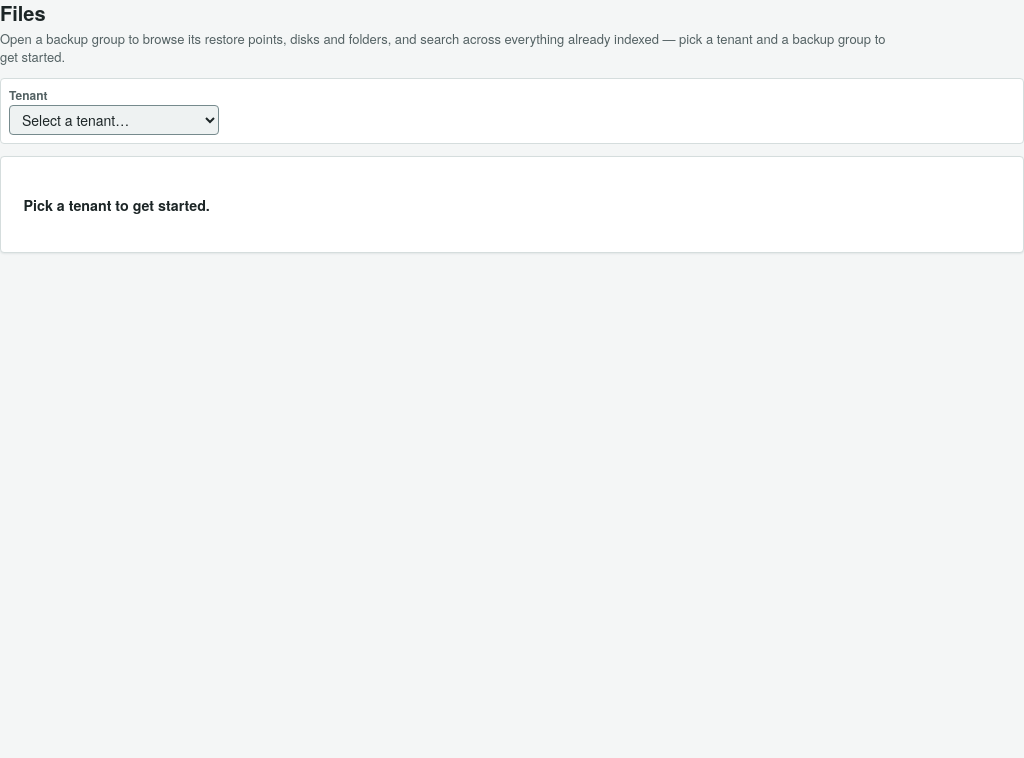
Scenario: FileWorkspacePage › opens the File Browser window and browses a green (indexed) snapshot via the index panel
Select "Acme AG" in the dropdown labelled "Tenant" at [114, 120], box [9,105,219,135]
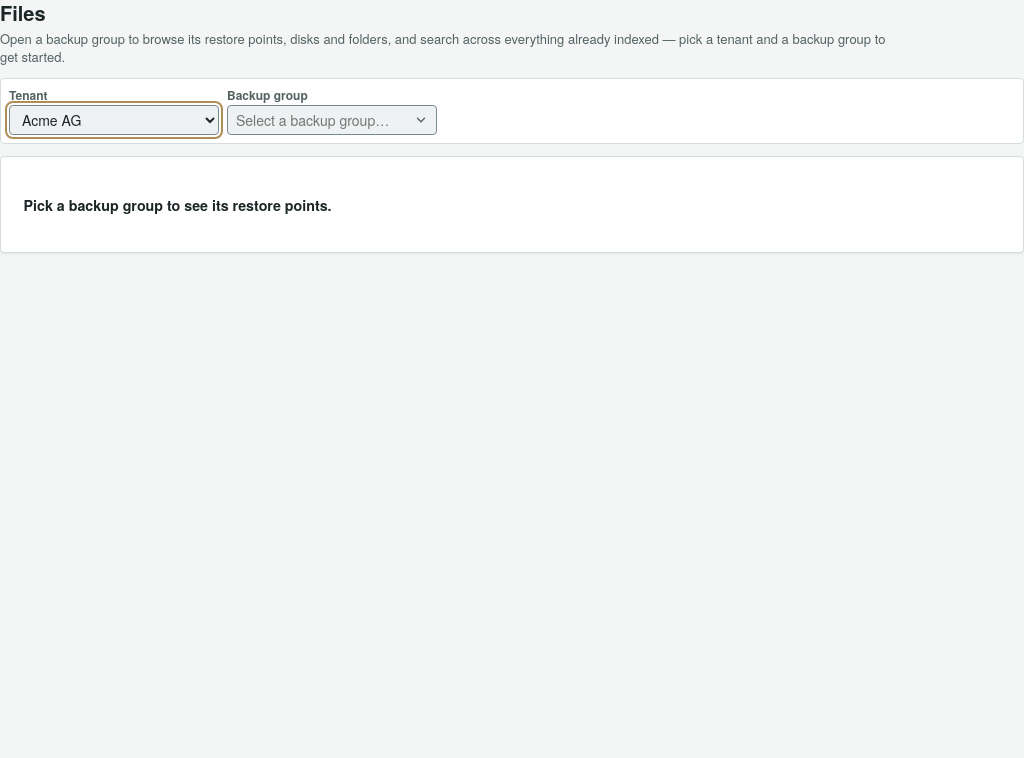
Now the dropdown labelled "Backup group" is shown
Click the dropdown labelled "Backup group" at [332, 120], box [227,105,437,135]
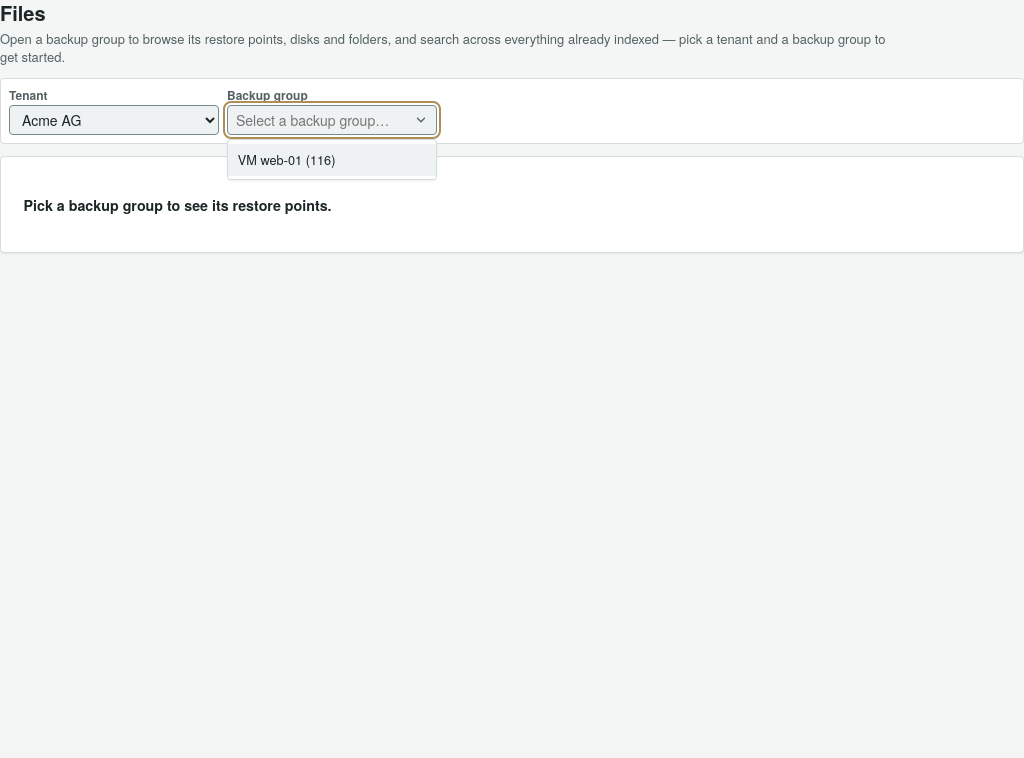
Now the option "VM web-01 (116)" is shown
Click the option "VM web-01 (116)" at [332, 160], box [228,144,436,176]
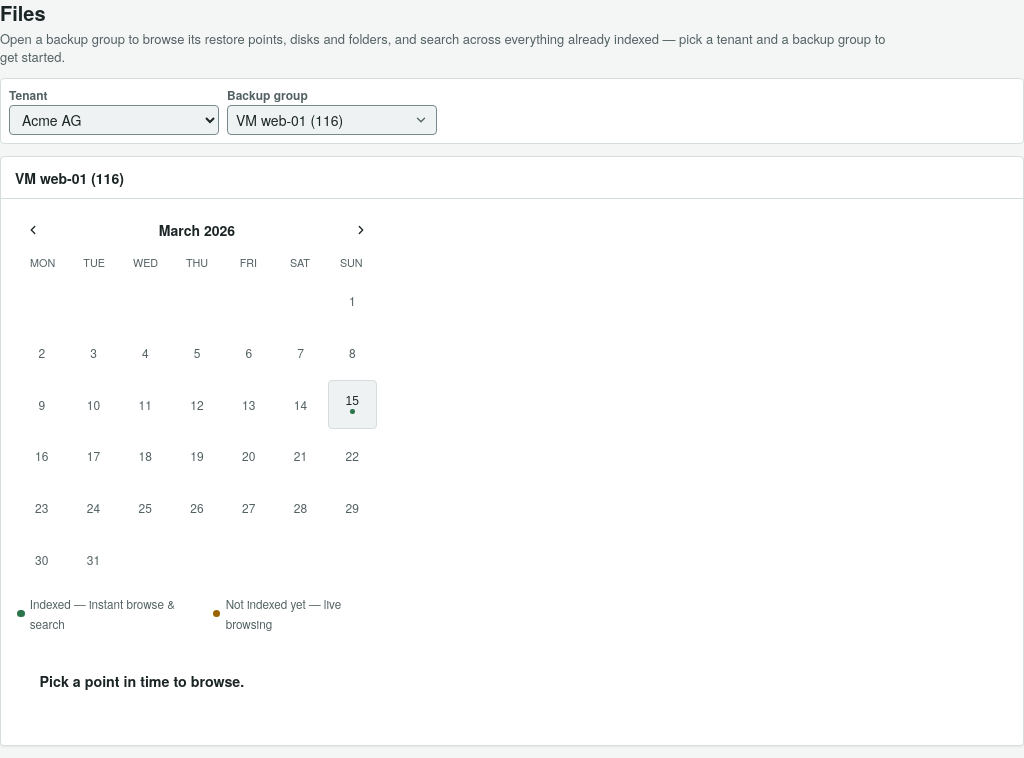
Now the text "March 2026" is shown, box [159,220,235,240]
Click the button "15" at [352, 405], box [328,380,377,429]
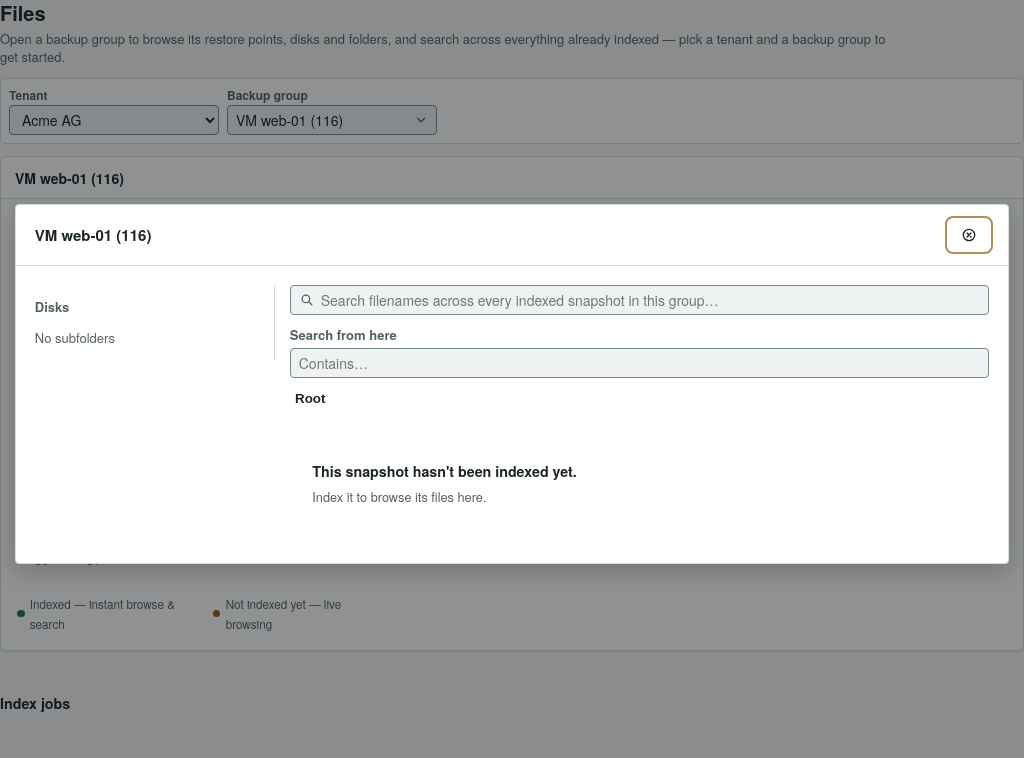
Click the button named "Close" at [969, 235], box [949,220,989,250]
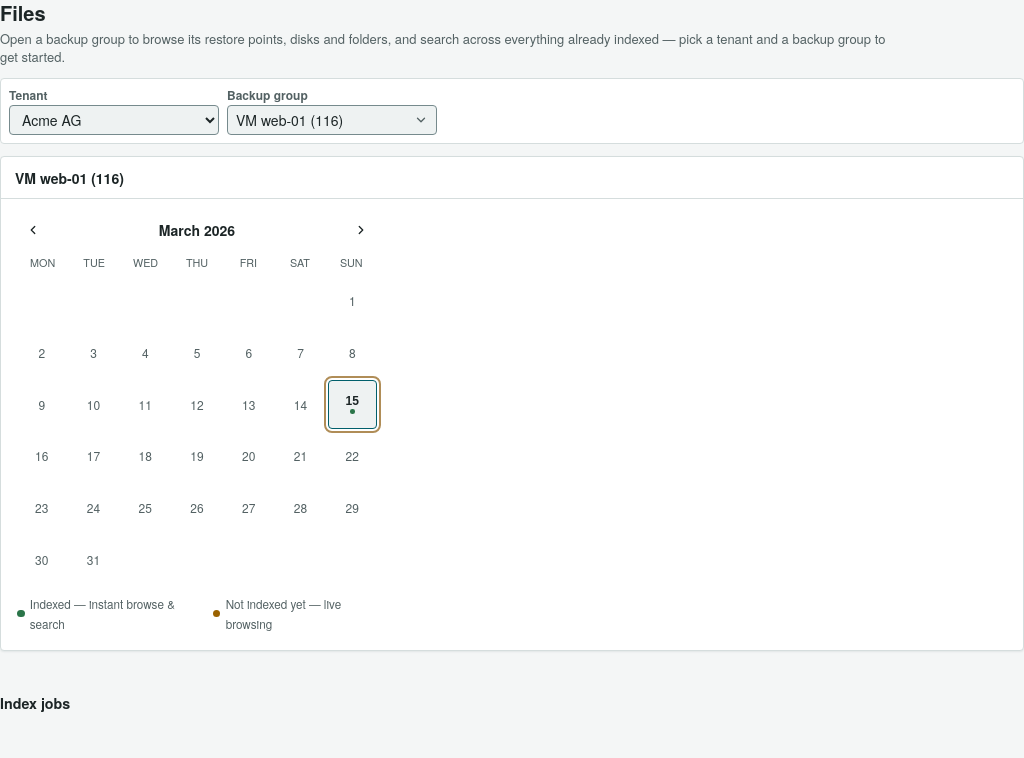
Now the dialog is gone
